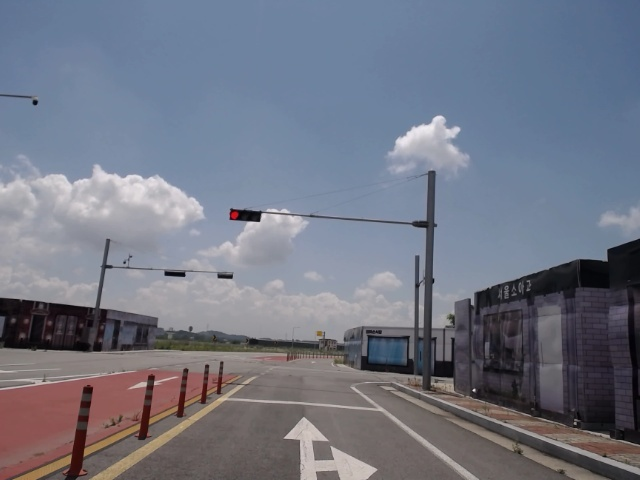red_3: (229, 207, 263, 223)
